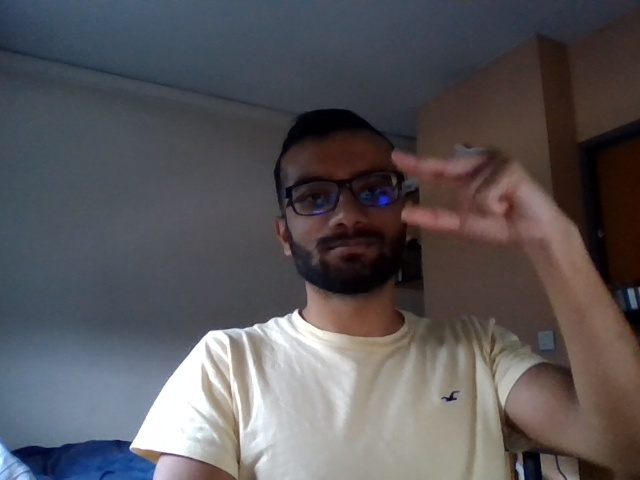No: (371, 132, 591, 248)
